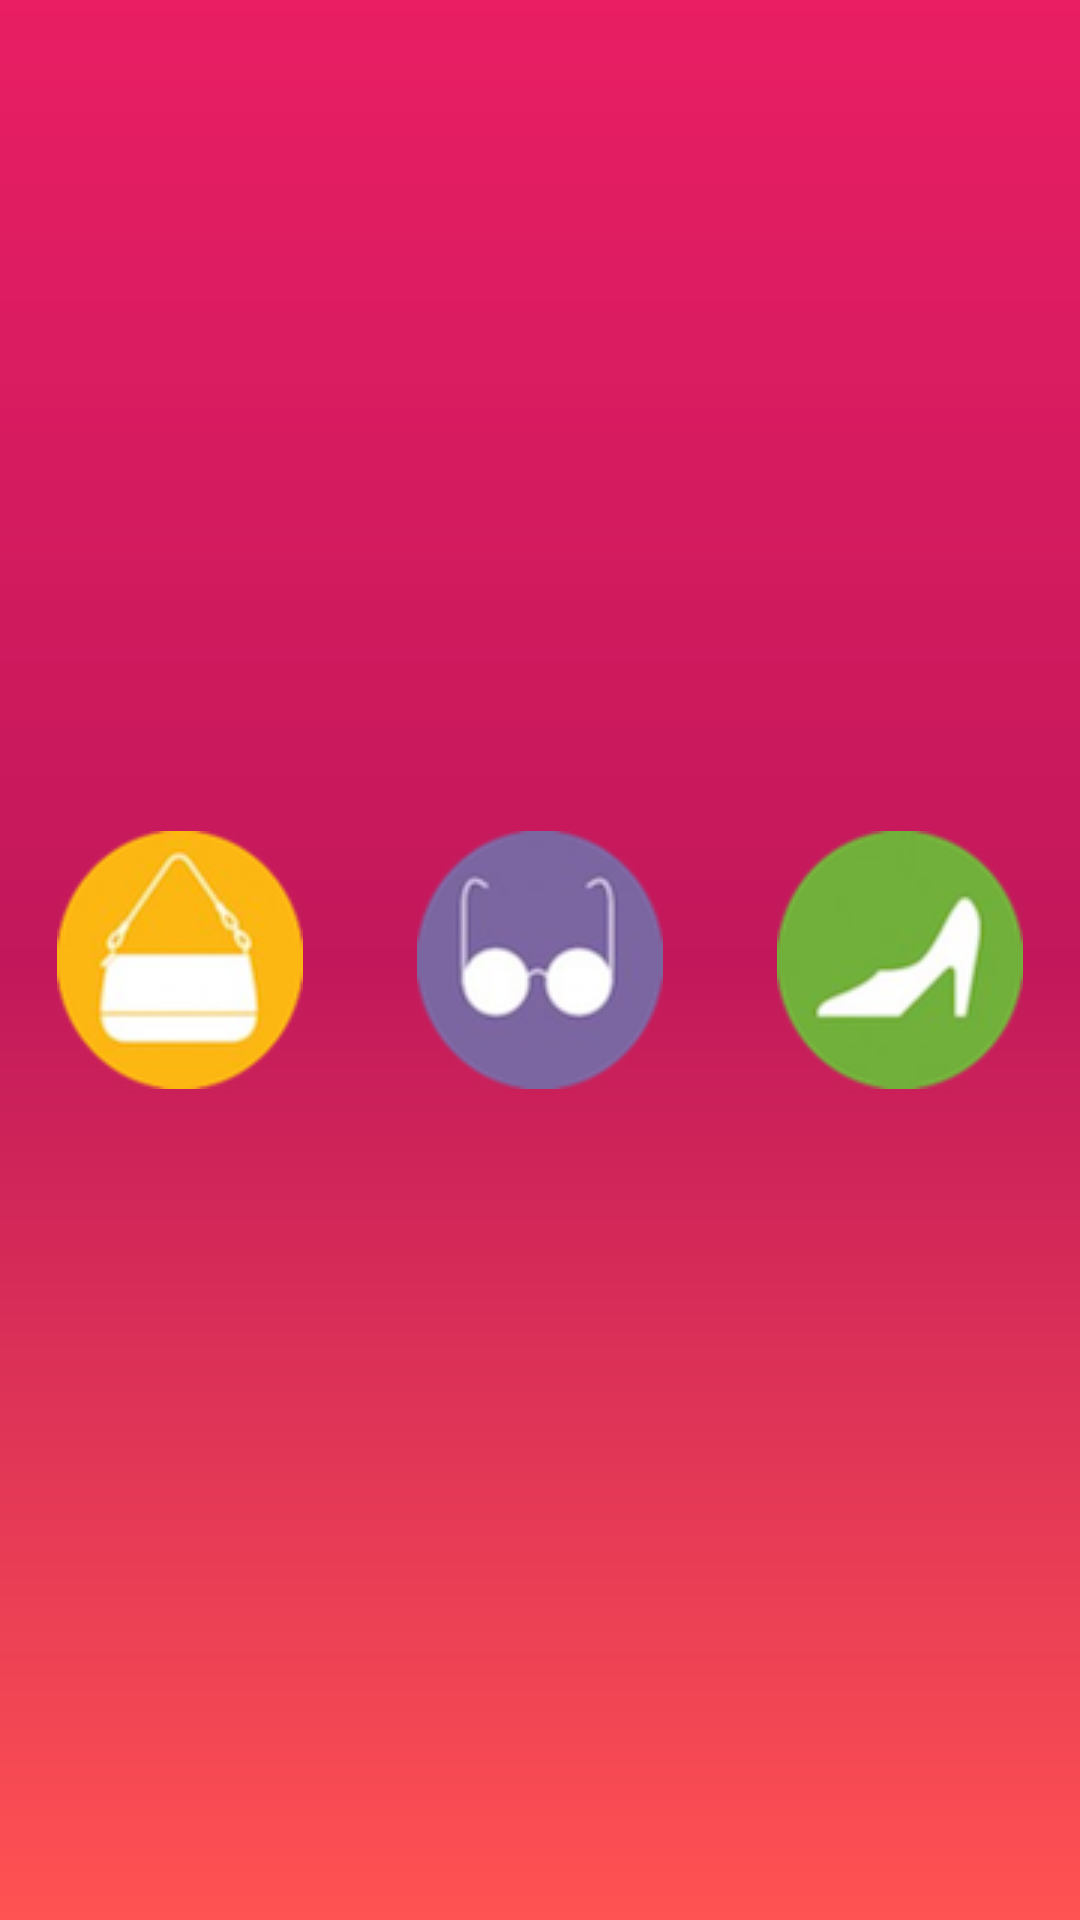

Where to tap for icons on this 1080px x 1920px app screen, as [x,y]:
circular bag: [180,960]
circular glasses: [540,960]
circular shoes: [900,960]
